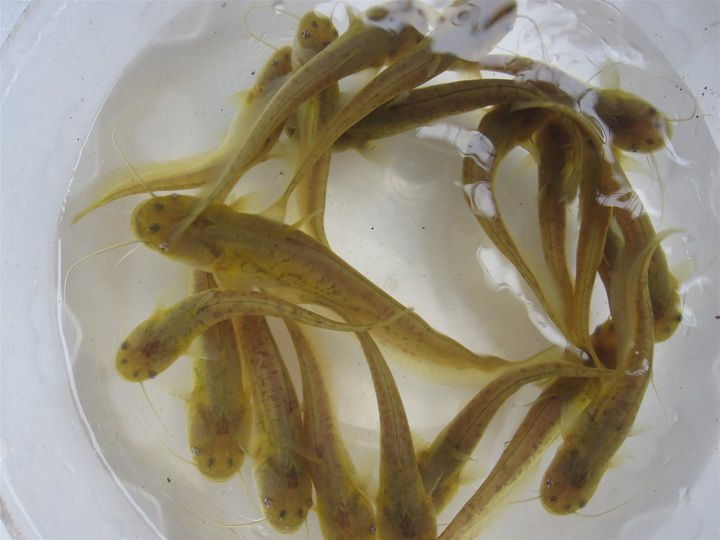fish: (130, 186, 279, 268), (407, 1, 532, 75), (104, 307, 214, 381), (177, 376, 253, 483), (617, 240, 691, 344), (586, 78, 672, 153), (253, 435, 315, 535), (240, 43, 294, 143), (305, 464, 375, 540), (283, 15, 342, 104), (342, 6, 429, 63), (542, 424, 592, 518), (535, 118, 585, 204), (497, 63, 544, 153), (374, 468, 432, 540)
